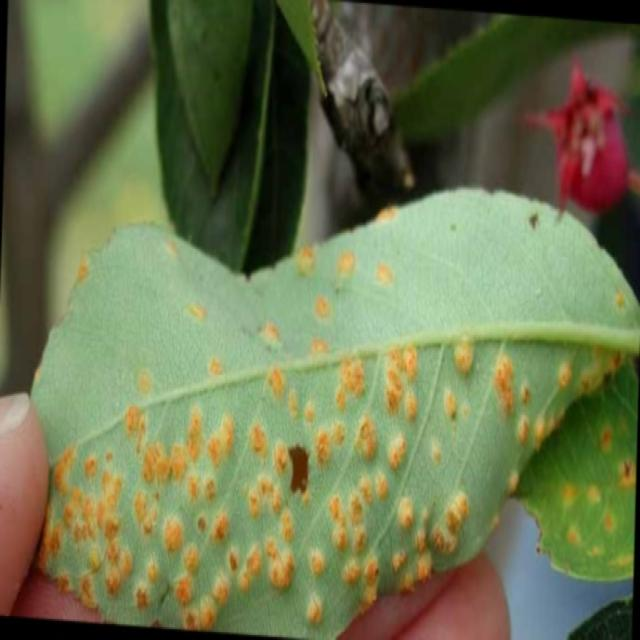Gymnosporangium_Rusts: (27, 182, 639, 637)
